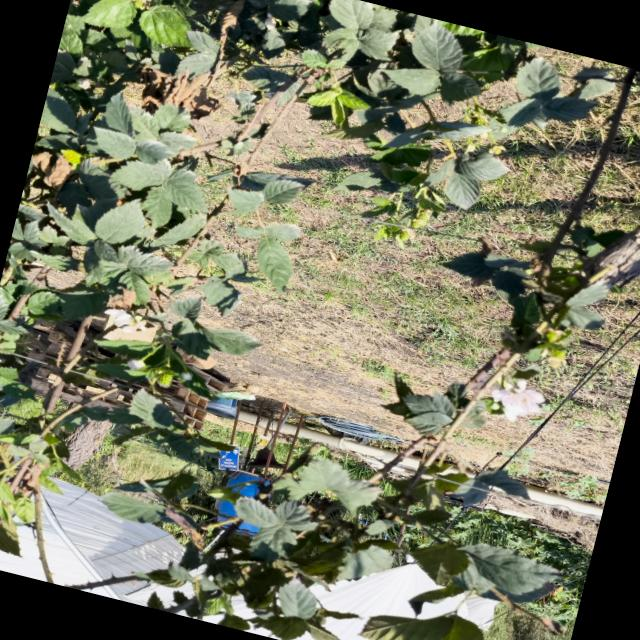flor: (492, 380, 544, 421), (105, 307, 145, 332), (127, 358, 145, 370)
